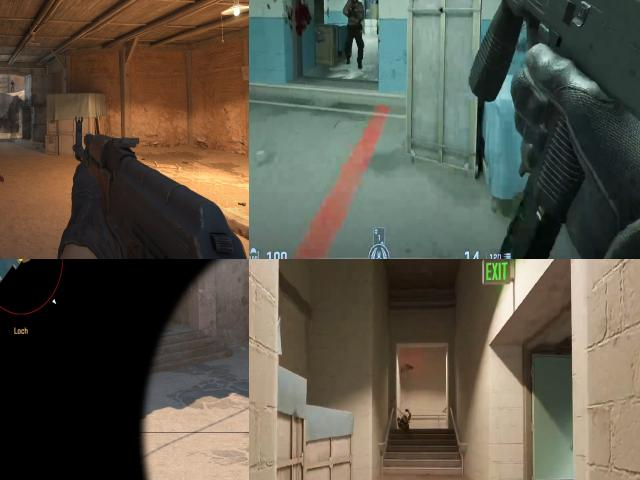CT: (11, 79, 15, 92)
CT-Head: (12, 79, 13, 82)
Dead: (396, 404, 415, 428)
T: (345, 0, 362, 34)
T-Head: (349, 0, 360, 7)
